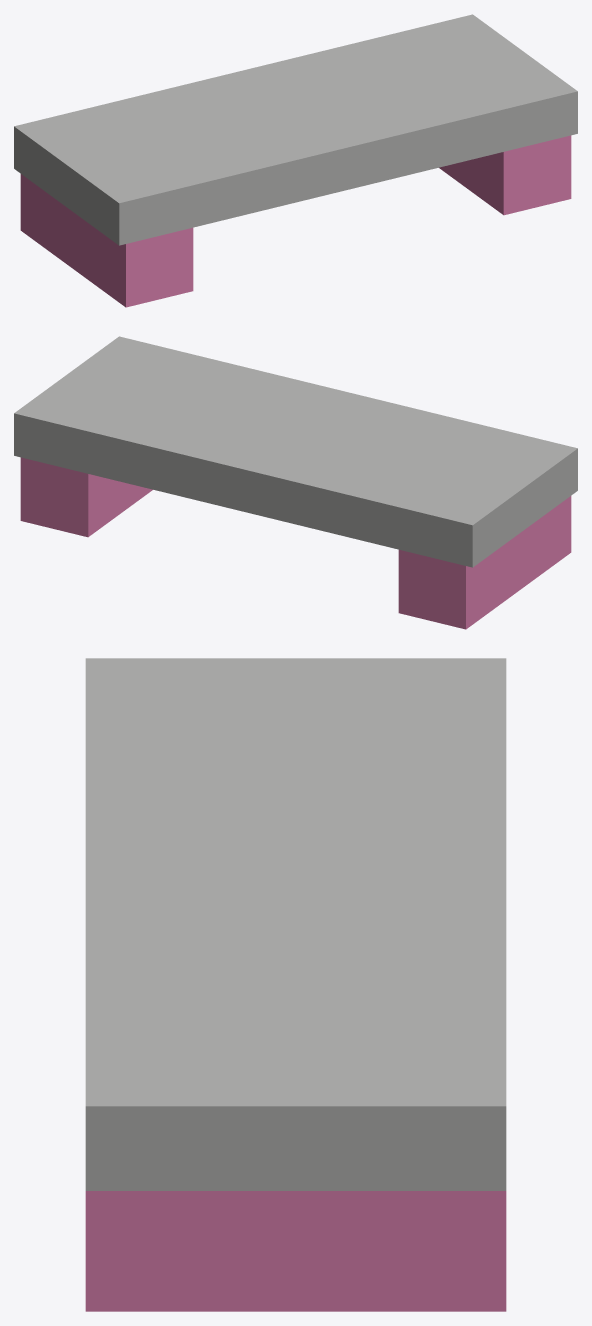
File: 0-aerobic-step-platform.glb
3 renders of one model, top to bottom at view 1: azimuth 30°, elevation 25°; view 2: azimuth 150°, elevation 25°; view 3: azimuth 270°, elevation 25°, orthographic. The views are drawn at different scales.
Parts seen in each view (by area): view 1: deck, riser-l, riser-r; view 2: deck, riser-l, riser-r; view 3: deck, riser-r.
Boxes of the visible parts, x1,y1,x2,y2 form: deck: (14,14,577,245); riser-l: (20,174,193,307); riser-r: (439,135,571,215); deck: (14,336,577,567); riser-l: (398,496,571,629); riser-r: (20,457,152,537); deck: (85,658,506,1190); riser-r: (85,1191,506,1311).
Bounding box in the file's own units: 0.68 × 0.15 × 0.27.
